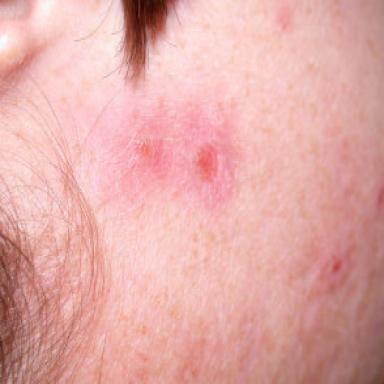acne: (196, 144, 218, 181), (135, 139, 162, 167), (275, 1, 292, 31), (332, 259, 342, 272)
